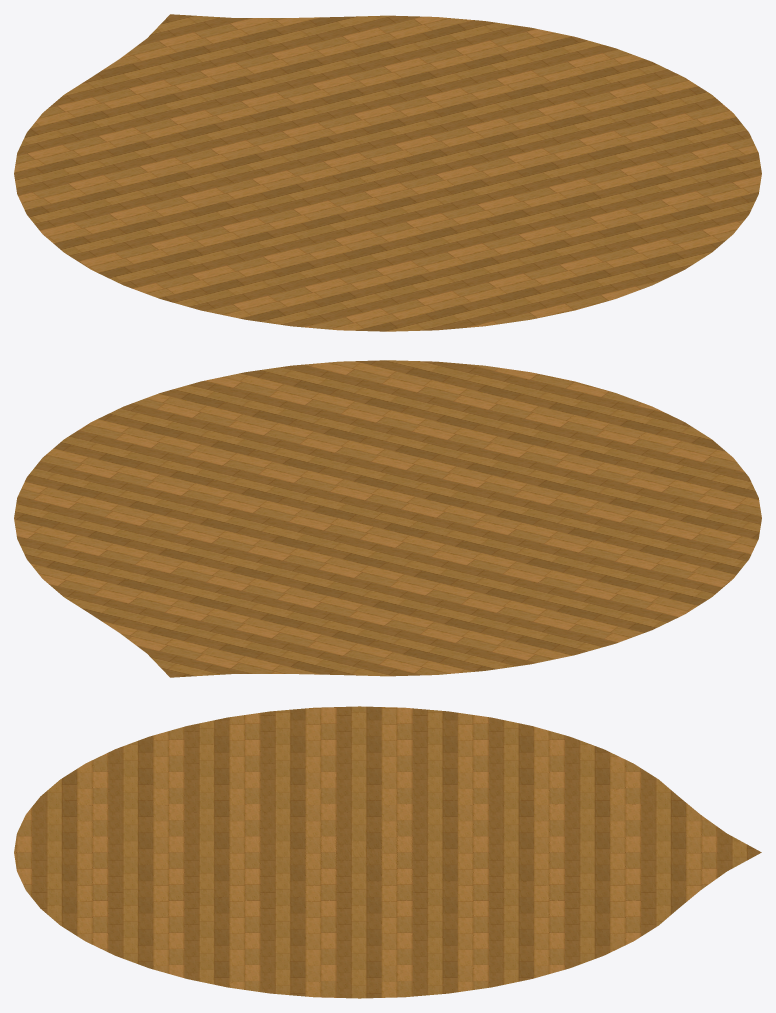
Rendered from Onion_Floor.fbx.
3 views of the same model, one above another, from view 1: azimuth 30°, elevation 25°; view 2: azimuth 150°, elevation 25°; view 3: azimuth 270°, elevation 25° (orthographic). The views are drawn at different scales.
Visible parts, largest first — view 1: Onion_Floor; view 2: Onion_Floor; view 3: Onion_Floor.
Part boxes in pixels (x1,y1,x2,y2): Onion_Floor: (14, 14, 761, 331); Onion_Floor: (14, 360, 761, 677); Onion_Floor: (14, 706, 761, 998).
Bounding box in the file's own units: 21.67 × 0 × 23.45.
Materials: 1 (1 with a texture image).
